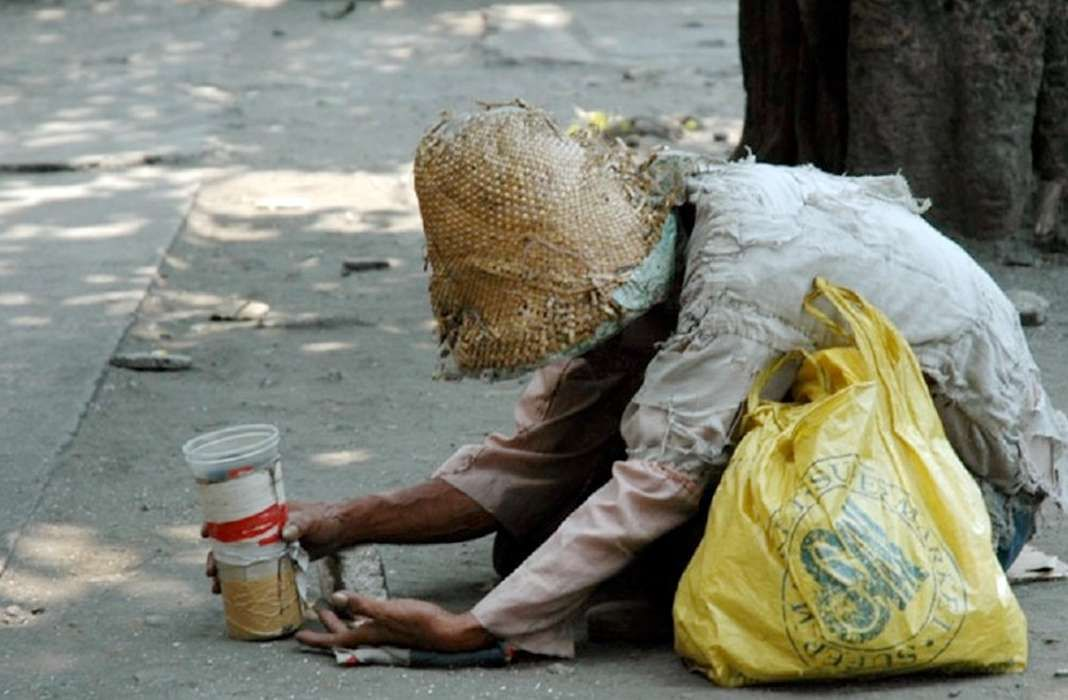gelandangan: (172, 84, 1060, 686)
